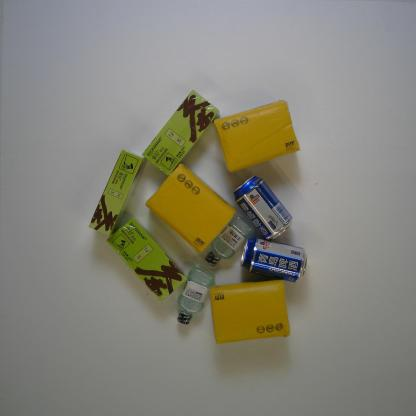Alcohol: (233, 174, 294, 241), (239, 237, 309, 284)
Instant Drink: (106, 216, 188, 303), (141, 88, 220, 176), (88, 148, 148, 238)
Personal Hygiene: (203, 215, 255, 269), (176, 266, 216, 326)
Tissue: (144, 162, 238, 255), (212, 98, 301, 174), (208, 278, 291, 345)
